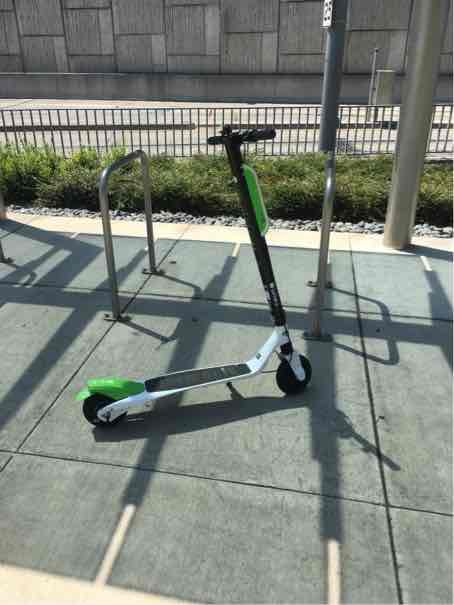scooter: (68, 120, 322, 444)
